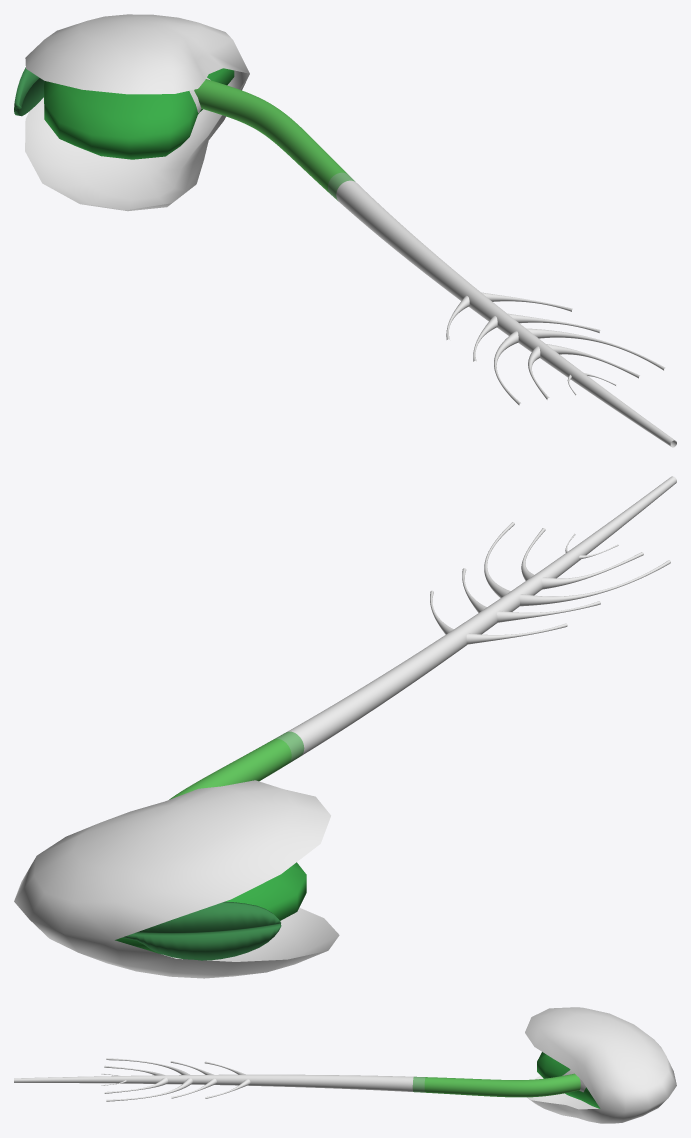
File: Frijol_3.glb
3 renders of one model, top to bottom at view 1: azimuth 30°, elevation 25°; view 2: azimuth 150°, elevation 25°; view 3: azimuth 270°, elevation 25°, orthographic. The views are drawn at different scales.
Parts seen in each view (by area): view 1: Frijol_caras, raiz_principal.002, Frijol_etapa_3.002, raiz_secundaria_3.002, Hoja_nace, raiz_secundaria_4.002, raiz_secundaria_2.002, raiz_secundaria_1.002; view 2: Frijol_caras, raiz_principal.002, Hoja_nace, Frijol_etapa_3.002, raiz_secundaria_3.002, raiz_secundaria_4.002, raiz_secundaria_2.002, raiz_secundaria_1.002; view 3: Frijol_caras, raiz_principal.002, Frijol_etapa_3.002, raiz_secundaria_3.002, raiz_secundaria_4.002, raiz_secundaria_2.002, raiz_secundaria_1.002.
Part boxes in pixels (box(x1,y1,x2,y2)): Frijol_caras: box(25, 14, 249, 211); raiz_principal.002: box(194, 79, 676, 447); Frijol_etapa_3.002: box(44, 68, 234, 159); raiz_secundaria_3.002: box(494, 328, 665, 405); Hoja_nace: box(14, 67, 45, 116); raiz_secundaria_4.002: box(528, 344, 639, 399); raiz_secundaria_2.002: box(473, 313, 600, 361); raiz_secundaria_1.002: box(446, 292, 572, 339); Frijol_caras: box(14, 780, 339, 978); raiz_principal.002: box(169, 476, 676, 799); Hoja_nace: box(122, 901, 281, 960); Frijol_etapa_3.002: box(115, 862, 306, 953); raiz_secundaria_3.002: box(484, 522, 670, 606); raiz_secundaria_4.002: box(521, 528, 643, 589); raiz_secundaria_2.002: box(462, 568, 600, 622); raiz_secundaria_1.002: box(430, 590, 567, 644); Frijol_caras: box(525, 1007, 676, 1123); raiz_principal.002: box(14, 1073, 580, 1097); Frijol_etapa_3.002: box(537, 1052, 600, 1108); raiz_secundaria_3.002: box(106, 1058, 192, 1101); raiz_secundaria_4.002: box(104, 1065, 168, 1093); raiz_secundaria_2.002: box(170, 1061, 216, 1098); raiz_secundaria_1.002: box(204, 1061, 250, 1098).
Size of the model in its own units: 0.545 by 0.3227 by 2.21.
